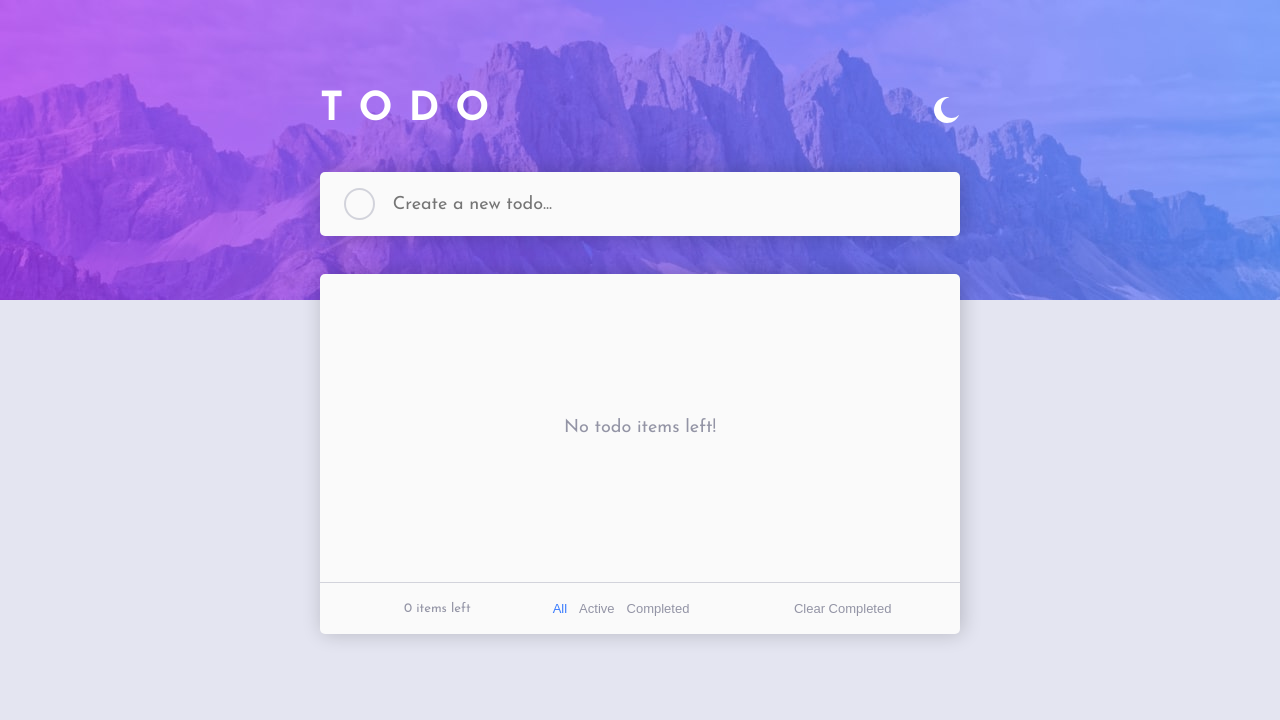
Test case: Test SwitchTheme component › Should change the icon based on the theme currently in use. › Must use the Sun icon.
Note: Simulate click for switch theme to dark.
Click the element with test id "switchTheme" at [947, 110], box top-left (934, 97), bottom-right (960, 123)
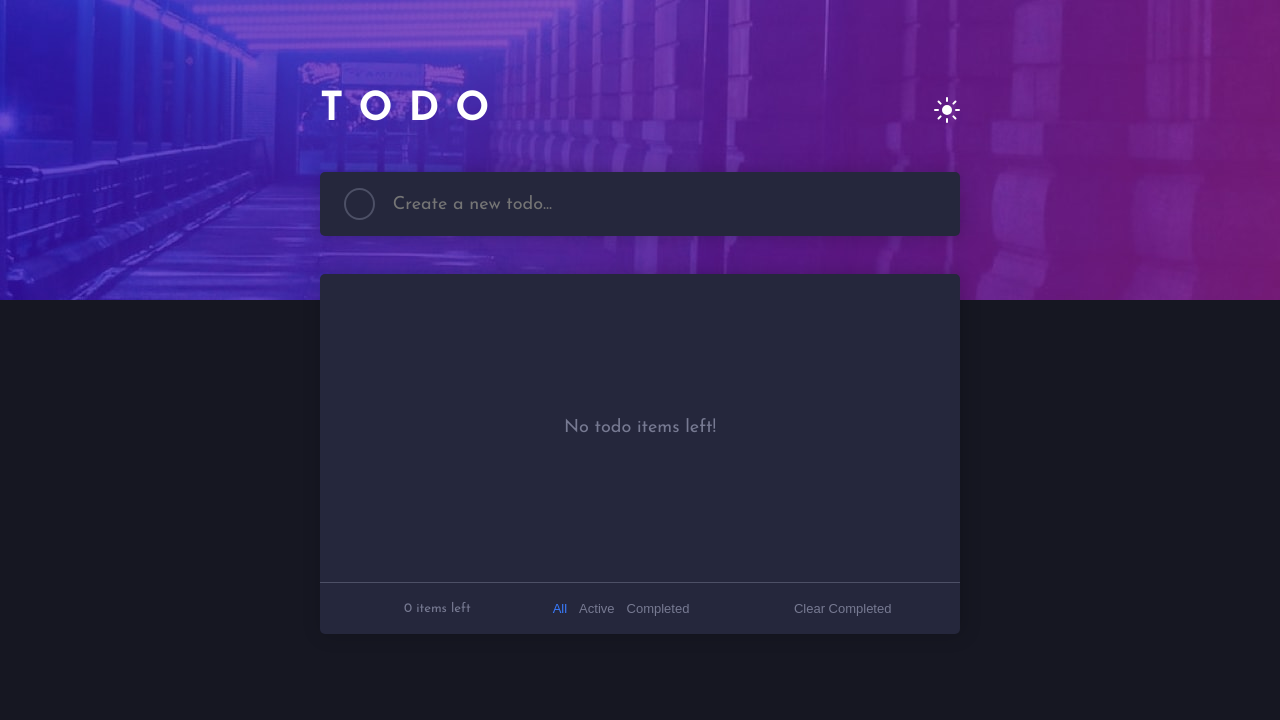
Result: the icon with id "sunIcon" is shown at top-left (934, 97), bottom-right (960, 123)
